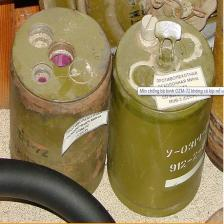OZM-72: (115, 7, 208, 214), (14, 6, 107, 190)
